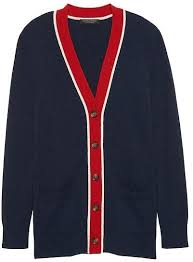C_cardigan sweater: (5, 19, 189, 261)
